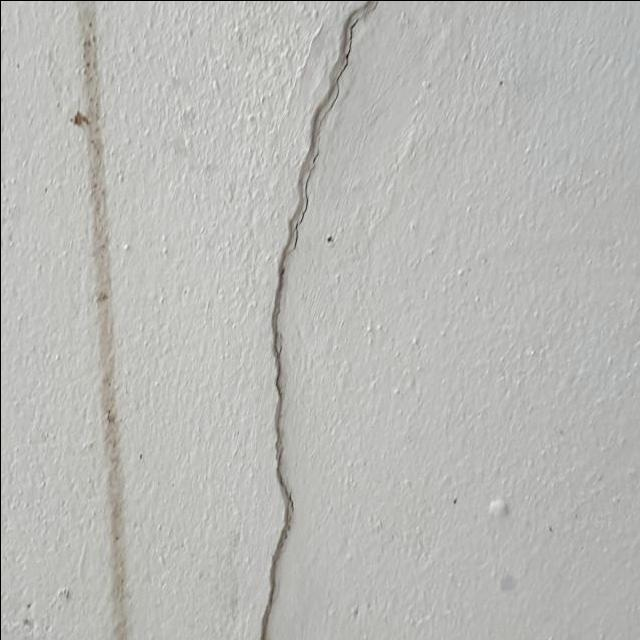SurfaceCrack: (226, 0, 397, 640)
